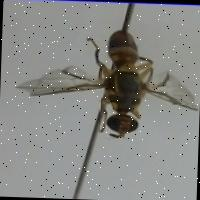Oriental-fruit-fly: (10, 20, 200, 144)
